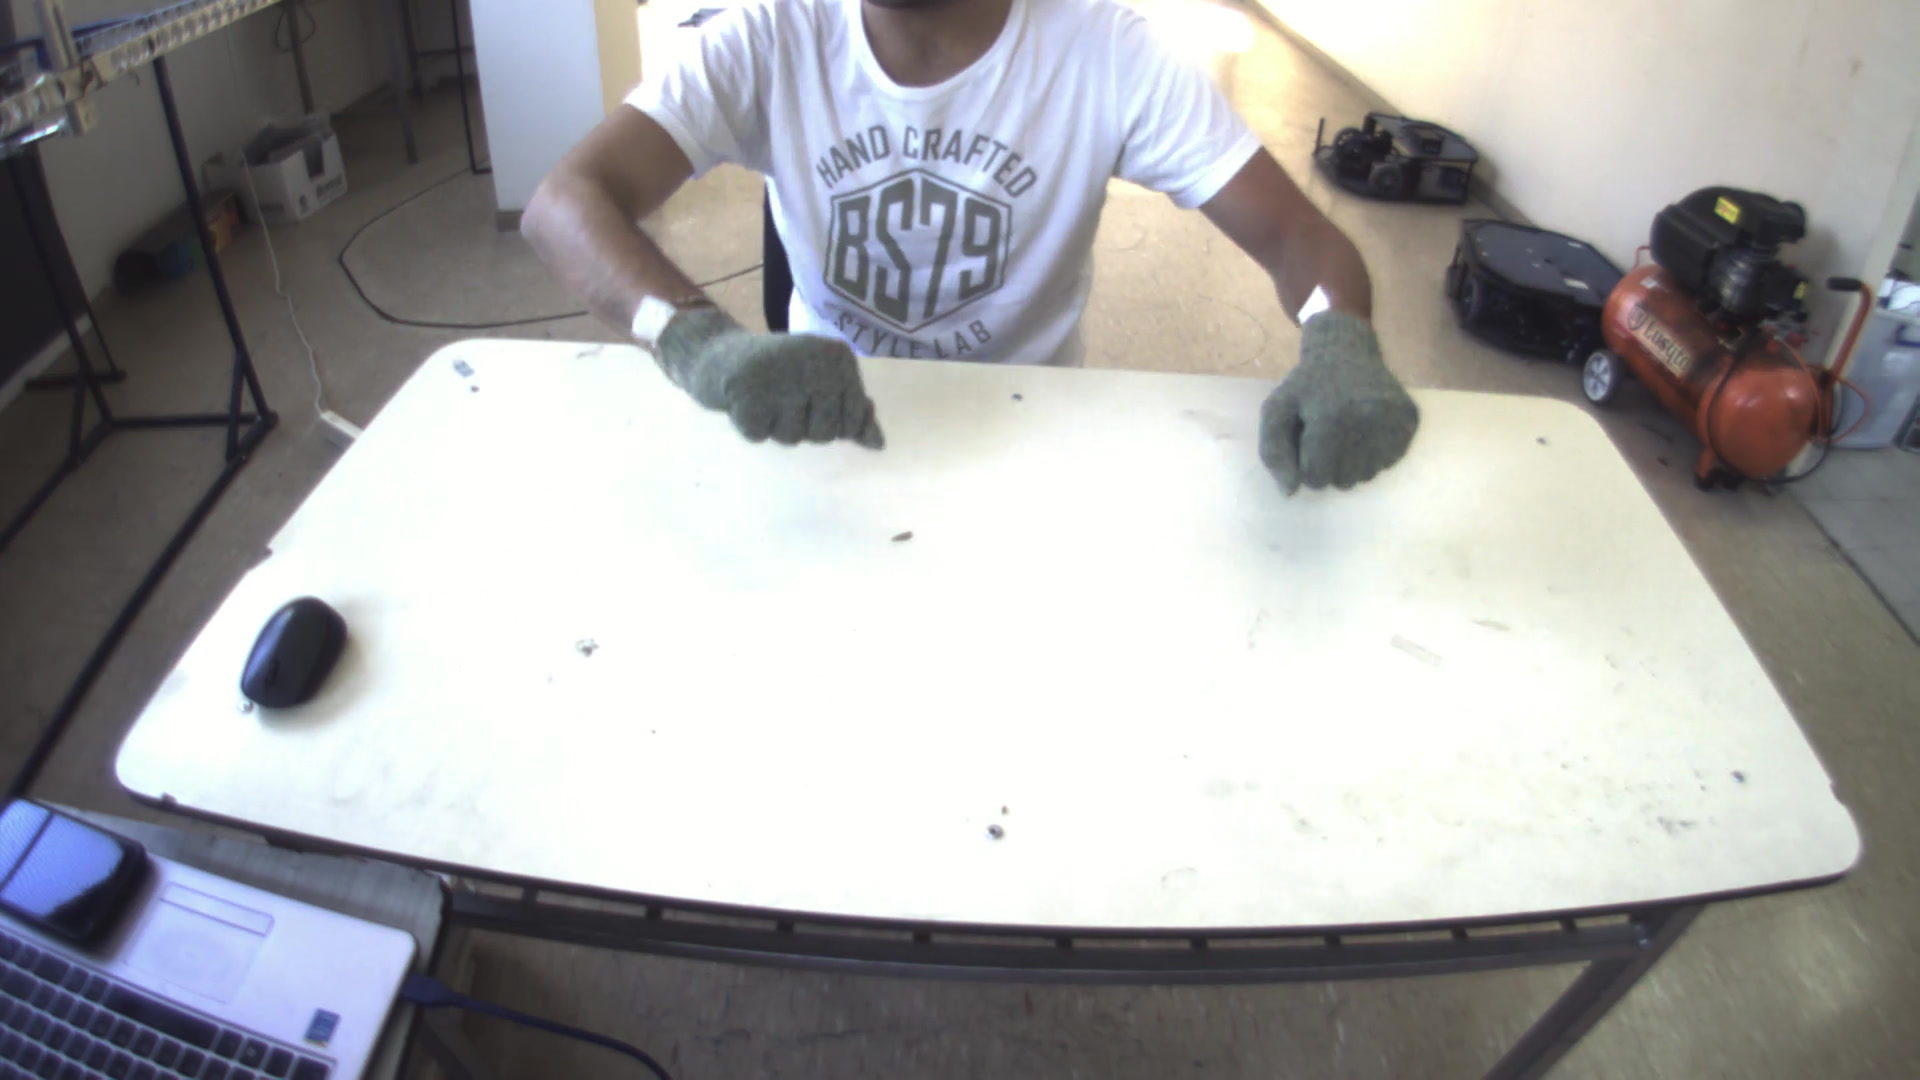hand: (638, 291, 894, 454), (1251, 303, 1436, 497)
